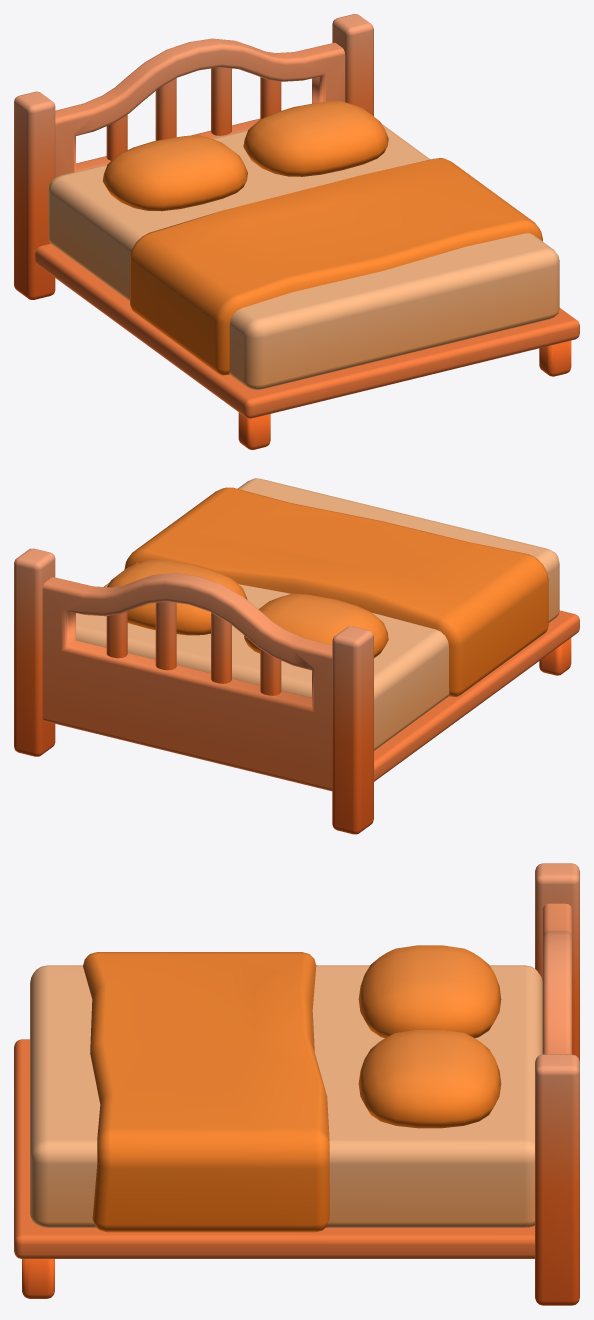
Rendered from Bed_001.fbx.
The picture shows the model from 3 angles, top to bottom: view 1: azimuth 30°, elevation 25°; view 2: azimuth 150°, elevation 25°; view 3: azimuth 270°, elevation 25°; orthographic projection. The views are drawn at different scales.
Visible parts, largest first — view 1: Bed_001; view 2: Bed_001; view 3: Bed_001.
Boxes of the visible parts, left/top/right/bottom form: Bed_001: left=14, top=14, right=579, bottom=449; Bed_001: left=14, top=478, right=579, bottom=834; Bed_001: left=14, top=863, right=579, bottom=1305.
Bounding box in the file's own units: 1.86 × 1.08 × 2.14.
